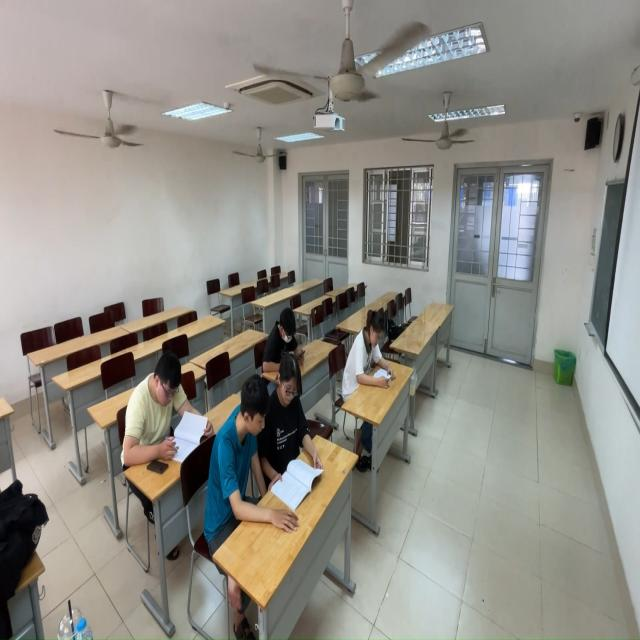read: (203, 365, 273, 542), (122, 347, 216, 471), (264, 349, 322, 504), (342, 301, 403, 404), (262, 302, 313, 371)
